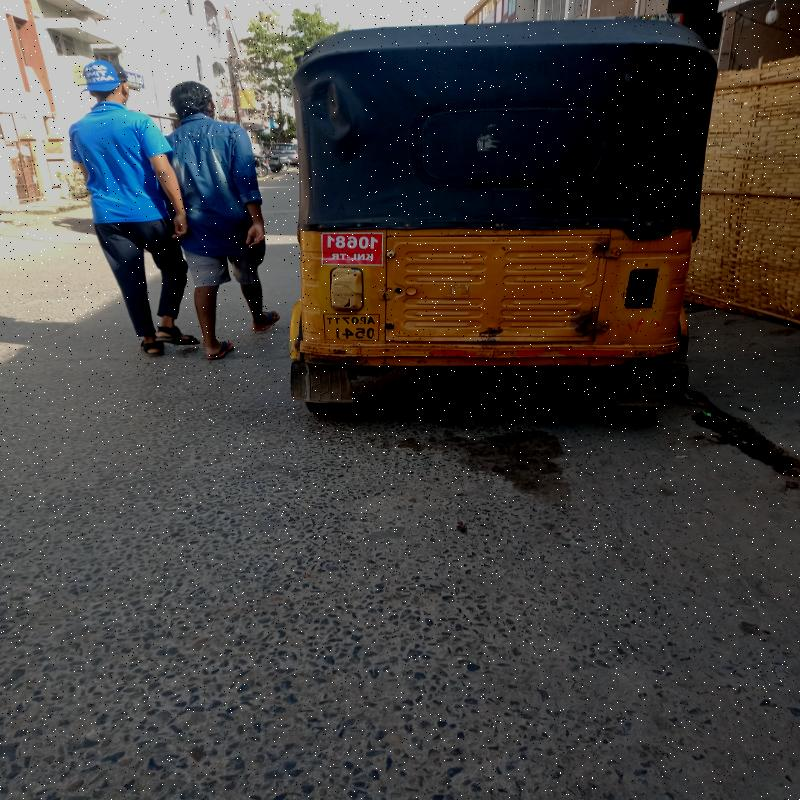auto: (290, 72, 718, 412)
